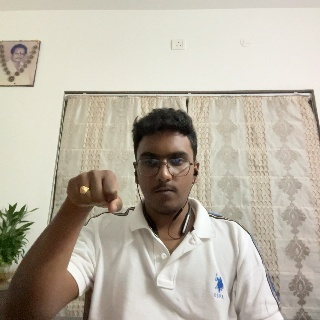Face: (134, 106, 202, 210)
Yes: (63, 166, 125, 238)
